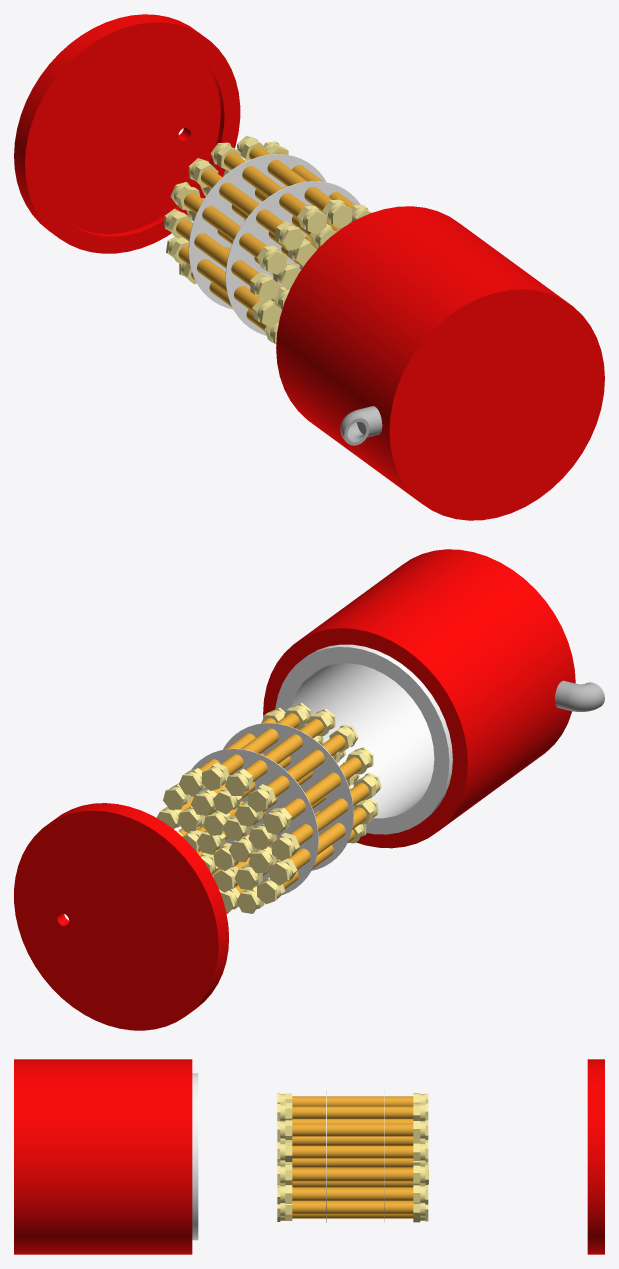
File: tes2.glb
3 views of the same model, one above another, from view 1: azimuth 30°, elevation 25°; view 2: azimuth 150°, elevation 25°; view 3: azimuth 270°, elevation 25° (orthographic). The views are drawn at different scales.
Visible parts, largest first — view 1: bucket-1, bucket_cover-1, Aluminum Plate-1, Aluminum Plate-2, Copper tubes-40, Copper tubes-36, Copper tubes-37, Copper tubes-50, Copper tubes-35, Copper tubes-46; view 2: bucket-1, bucket_cover-1, Aluminum Plate-2, Aluminum Plate-1, Copper tubes-40, Copper tubes-36, Copper tubes-37, Copper tubes-50, Copper tubes-35, Copper tubes-46; view 3: bucket-1, bucket_cover-1, Copper tubes-34, Copper tubes-35, Copper tubes-52, Copper tubes-48, Copper tubes-49, Copper tubes-54, Copper tubes-37, Copper tubes-39, Copper tubes-47, Copper tubes-53 (+12 smaller).
Boxes of the visible parts, x1=… form: bucket-1: x1=276, y1=206, x2=604, y2=520; bucket_cover-1: x1=14, y1=14, x2=240, y2=253; Aluminum Plate-1: x1=188, y1=154, x2=326, y2=309; Aluminum Plate-2: x1=225, y1=181, x2=360, y2=335; Copper tubes-40: x1=201, y1=169, x2=283, y2=235; Copper tubes-36: x1=184, y1=192, x2=266, y2=258; Copper tubes-37: x1=224, y1=152, x2=306, y2=218; Copper tubes-50: x1=176, y1=219, x2=258, y2=285; Copper tubes-35: x1=249, y1=146, x2=332, y2=212; Copper tubes-46: x1=178, y1=245, x2=260, y2=311; bucket-1: x1=263, y1=549, x2=604, y2=848; bucket_cover-1: x1=14, y1=803, x2=228, y2=1030; Aluminum Plate-2: x1=223, y1=723, x2=353, y2=870; Aluminum Plate-1: x1=191, y1=748, x2=318, y2=894; Copper tubes-40: x1=266, y1=734, x2=345, y2=797; Copper tubes-36: x1=283, y1=757, x2=361, y2=820; Copper tubes-37: x1=245, y1=719, x2=323, y2=782; Copper tubes-50: x1=290, y1=783, x2=369, y2=845; Copper tubes-35: x1=220, y1=713, x2=299, y2=775; Copper tubes-46: x1=287, y1=807, x2=366, y2=869; bucket-1: x1=14, y1=1059, x2=198, y2=1254; bucket_cover-1: x1=587, y1=1059, x2=604, y2=1254; Copper tubes-34: x1=292, y1=1168, x2=413, y2=1181; Copper tubes-35: x1=292, y1=1106, x2=413, y2=1119; Copper tubes-52: x1=292, y1=1201, x2=413, y2=1214; Copper tubes-48: x1=292, y1=1146, x2=413, y2=1158; Copper tubes-49: x1=292, y1=1124, x2=413, y2=1136; Copper tubes-54: x1=292, y1=1188, x2=413, y2=1200; Copper tubes-37: x1=292, y1=1096, x2=413, y2=1106; Copper tubes-39: x1=292, y1=1158, x2=413, y2=1167; Copper tubes-47: x1=292, y1=1136, x2=413, y2=1145; Copper tubes-53: x1=292, y1=1181, x2=413, y2=1187.
Bounding box in the file's own units: 0.4 × 0.34 × 1.03.
